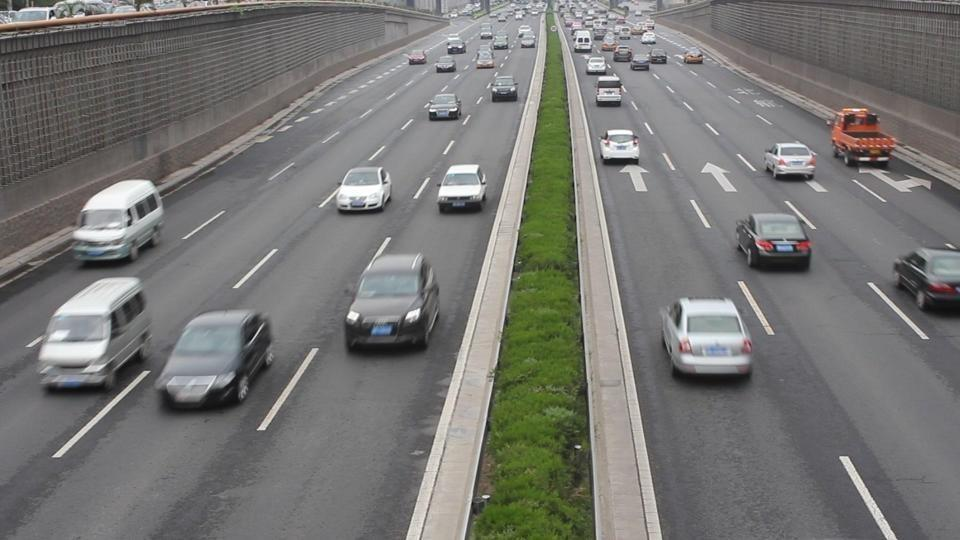car: (35, 276, 154, 392), (153, 309, 276, 411), (343, 250, 442, 353), (71, 178, 165, 264), (659, 297, 754, 379), (734, 211, 814, 272), (892, 246, 960, 312), (335, 165, 393, 213), (436, 164, 488, 213), (763, 142, 818, 180), (599, 128, 640, 163), (425, 92, 463, 122), (594, 76, 624, 107), (490, 73, 519, 101), (517, 25, 536, 48), (586, 56, 608, 75), (434, 57, 456, 73), (447, 37, 466, 53), (407, 51, 426, 64)
